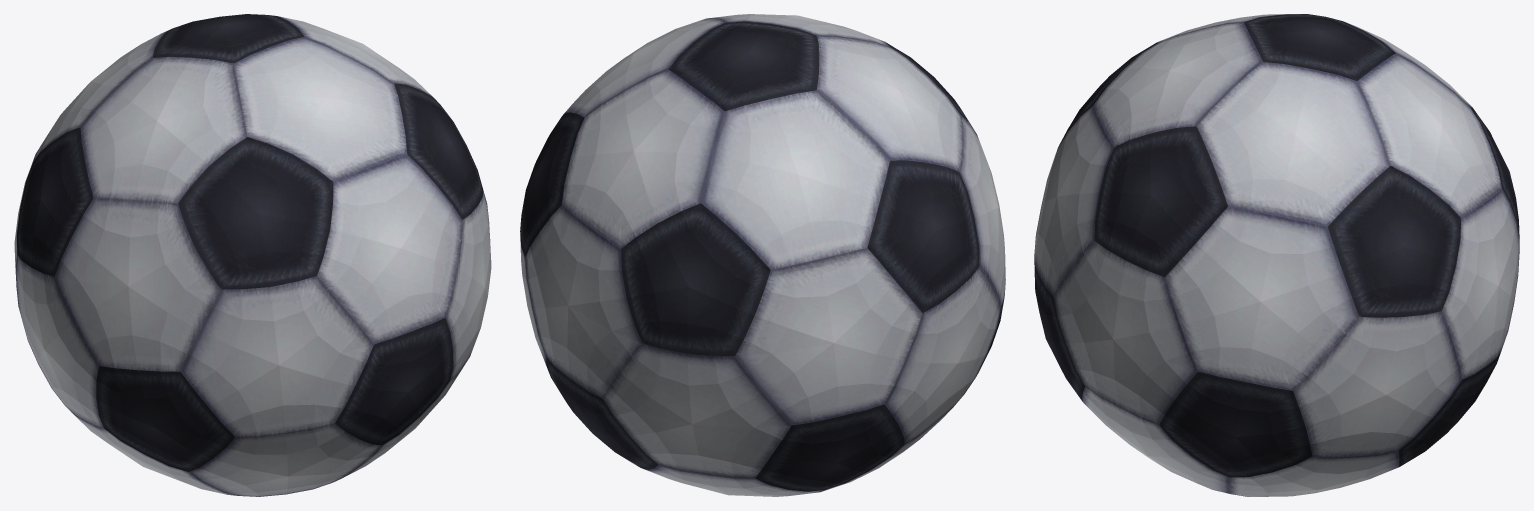
Rendered from football.obj.
The picture shows the model from 3 angles, left to right: view 1: azimuth 30°, elevation 25°; view 2: azimuth 150°, elevation 25°; view 3: azimuth 270°, elevation 25°; orthographic projection.
Parts seen in each view (by area): view 1: football; view 2: football; view 3: football.
Boxes of the visible parts, box(x1,y1,x2,y2) form: football: box(14, 14, 491, 496); football: box(520, 14, 1005, 496); football: box(1034, 14, 1519, 496).
Size of the model in its own units: 24.91 by 25.29 by 24.98.
1 material, 1 textured.
